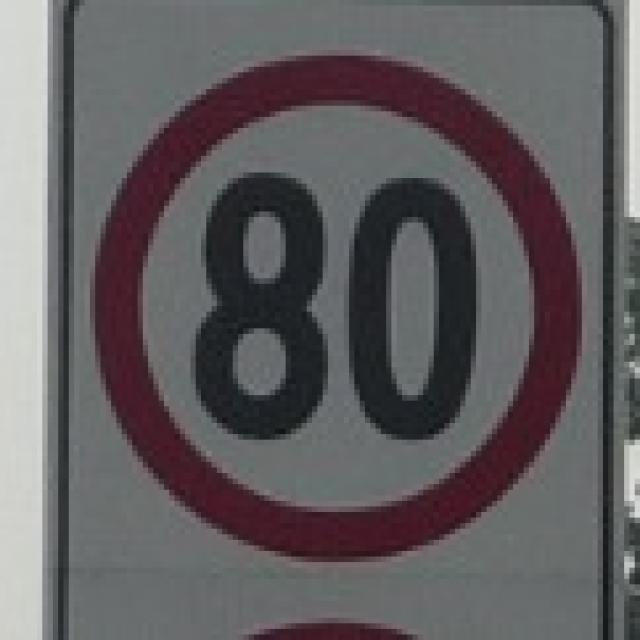Speed Limit -80-: (191, 172, 478, 441)
